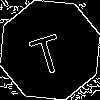T: (25, 25, 67, 77)
